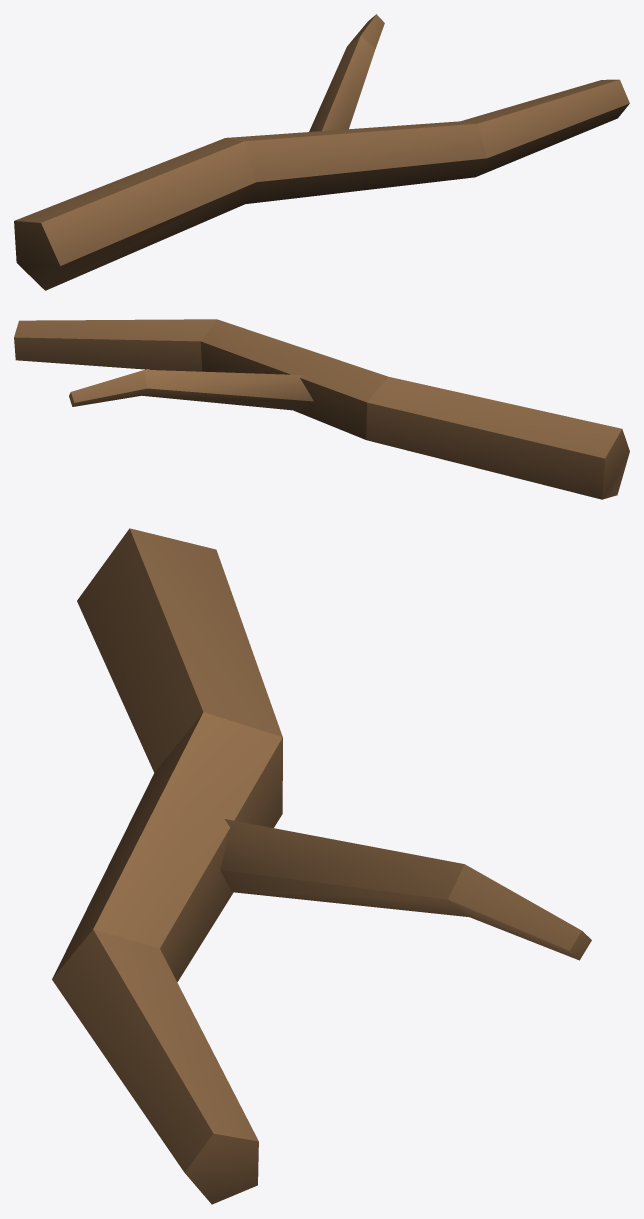
Rendered from node-branch.glb.
3 renders of one model, top to bottom at view 1: azimuth 30°, elevation 25°; view 2: azimuth 150°, elevation 25°; view 3: azimuth 270°, elevation 25°, orthographic. The views are drawn at different scales.
Visible parts, largest first — view 1: 0_branch; view 2: 0_branch; view 3: 0_branch.
Part boxes in pixels (x1=…): 0_branch: x1=14, y1=14, x2=629, y2=290; 0_branch: x1=14, y1=319, x2=629, y2=499; 0_branch: x1=52, y1=528, x2=591, y2=1204.
Size of the model in its own units: 0.9571 by 0.1421 by 0.3799.
